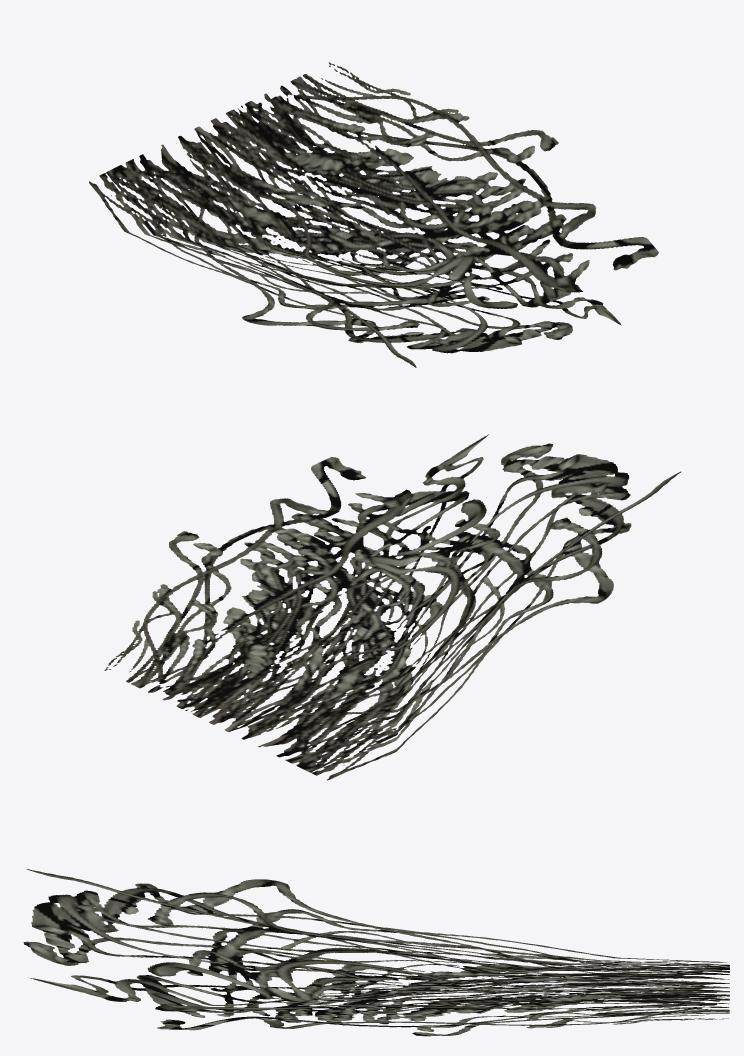
Rendered from MEP_HangingPlant_02_S.fbx.
3 renders of one model, top to bottom at view 1: azimuth 30°, elevation 25°; view 2: azimuth 150°, elevation 25°; view 3: azimuth 270°, elevation 25°, orthographic. The views are drawn at different scales.
Parts seen in each view (by area): view 1: MEP_HangingPlant_02; view 2: MEP_HangingPlant_02; view 3: MEP_HangingPlant_02.
Part boxes in pixels (x1,y1,x2,y2): MEP_HangingPlant_02: [89, 62, 658, 367]; MEP_HangingPlant_02: [104, 434, 681, 780]; MEP_HangingPlant_02: [23, 869, 729, 1036].
Bounding box in the file's own units: 0.4539 × 0.1083 × 0.6907.
